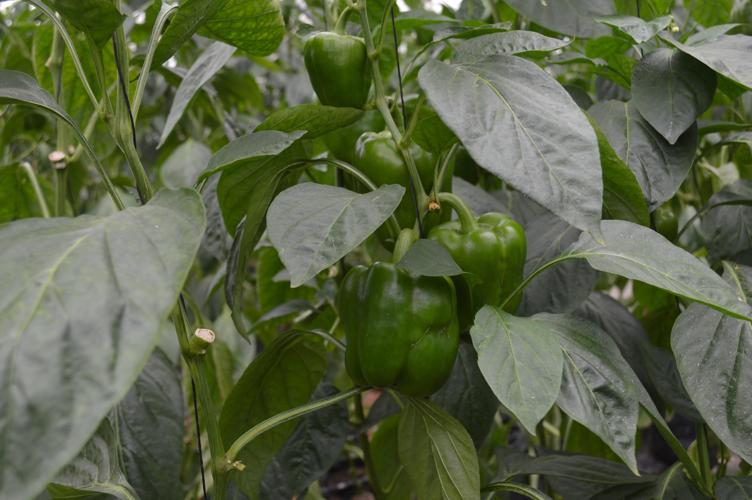BellPepper: (329, 254, 455, 408), (435, 204, 529, 330), (351, 133, 446, 244), (303, 30, 381, 118)
